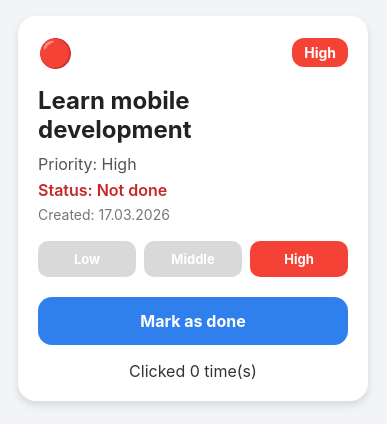
it: HomeScreen › changes priority when pressing buttons
The image size is (387, 424).
Click the text "Low": point(87, 258) [74,250,100,266]
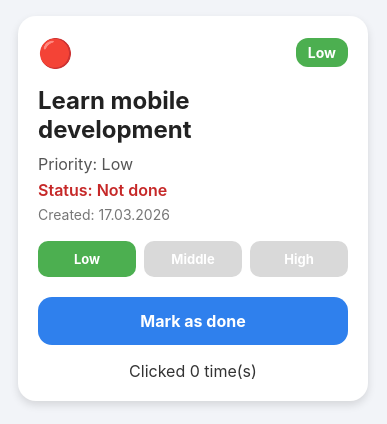
Click the text "Middle": point(193, 258) [171,250,215,266]
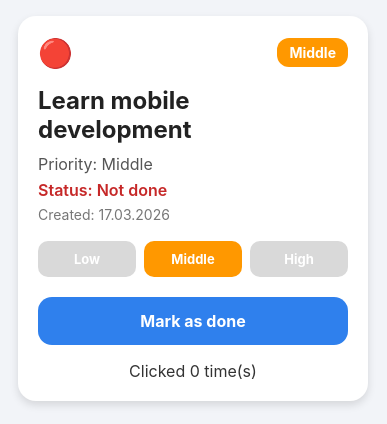
Click the text "High": point(299, 258) [284,250,314,266]
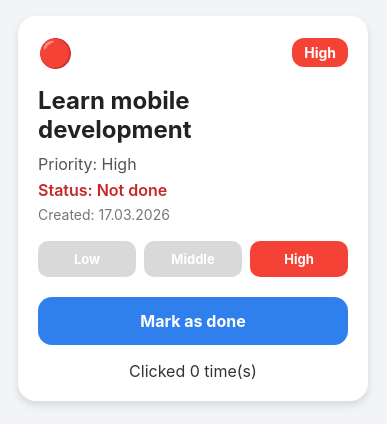
Result: the 1st text "High" is shown at [304,44,336,61]
